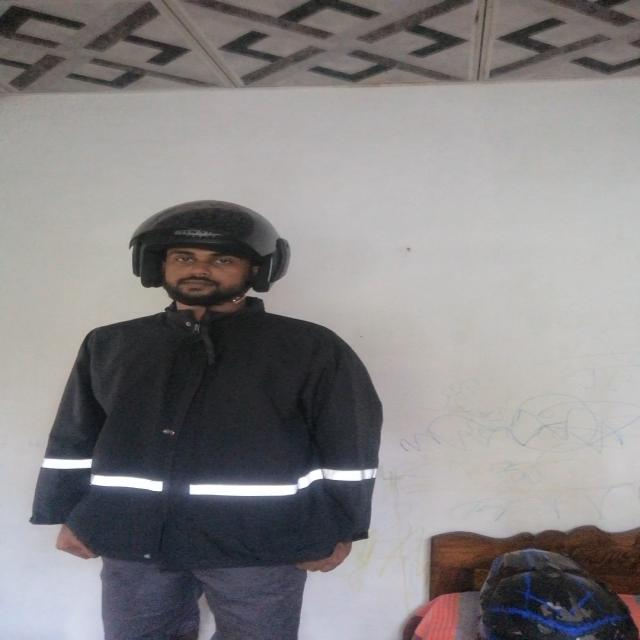Helmet_Wearer: (113, 200, 317, 330)
Jacket_Wearer: (52, 294, 376, 576)
Person: (3, 200, 394, 640)
